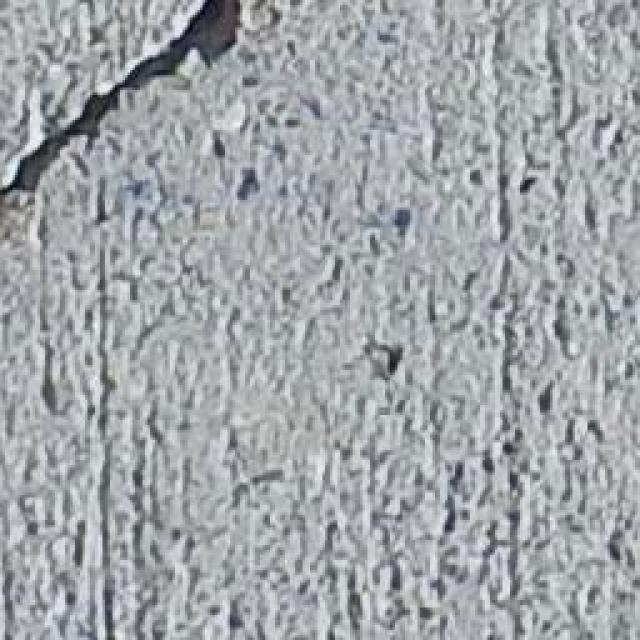concrete-crack: (0, 1, 244, 202)
